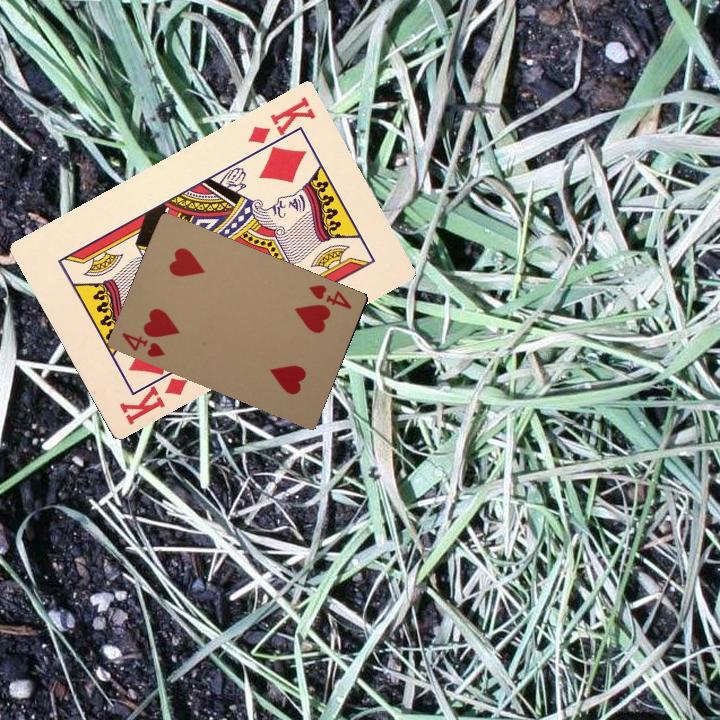4h: (117, 328, 169, 360), (305, 280, 354, 312)
Kd: (243, 92, 318, 160), (115, 364, 189, 428)
